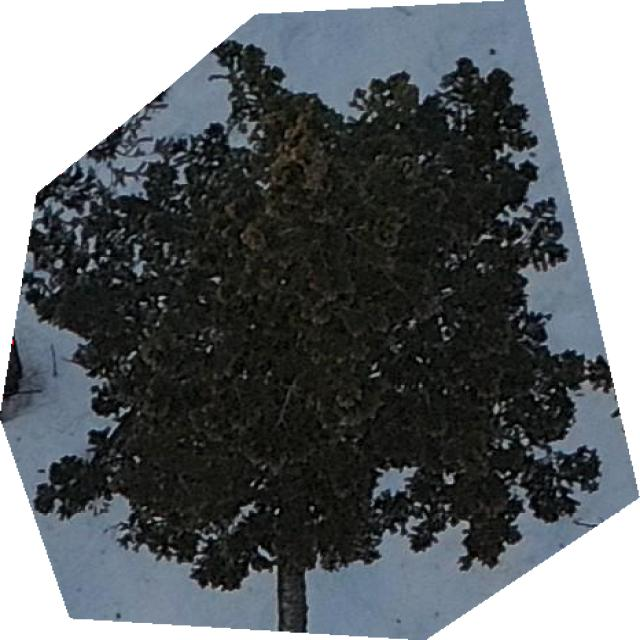pine: (18, 37, 613, 634)
